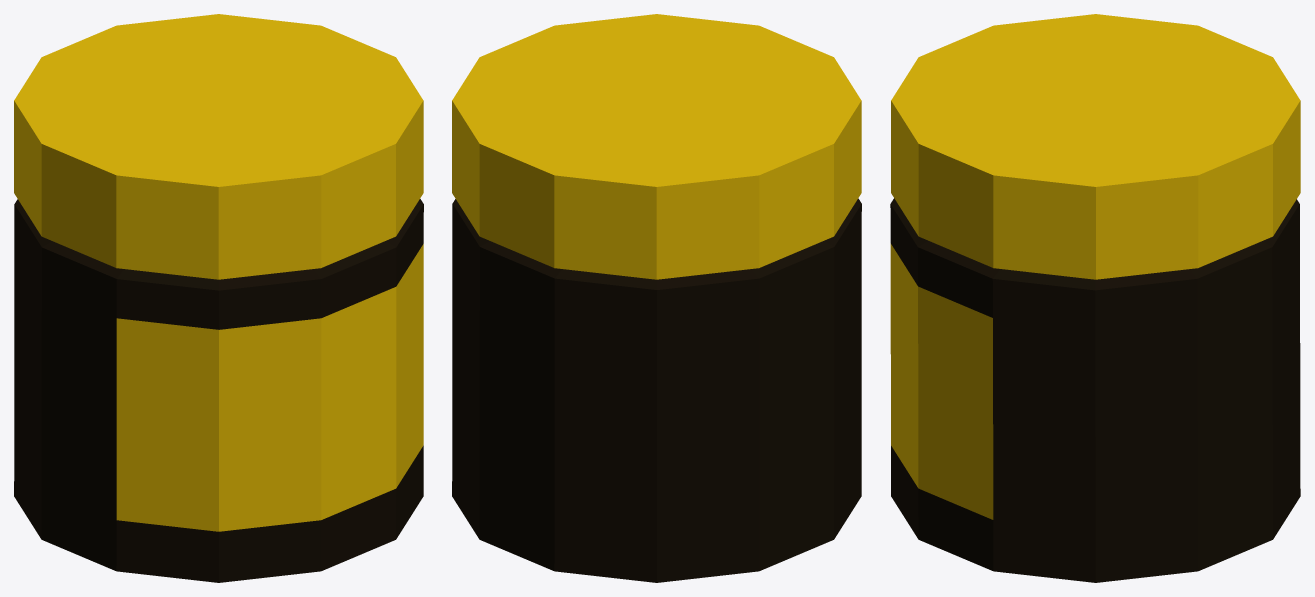
File: vegemite.fbx
3 views of the same model, side by side, from view 1: azimuth 30°, elevation 25°; view 2: azimuth 150°, elevation 25°; view 3: azimuth 270°, elevation 25° (orthographic).
Parts seen in each view (by area): view 1: Cylinder; view 2: Cylinder; view 3: Cylinder.
Boxes of the visible parts, x1,y1,x2,y2 form: Cylinder: [14, 14, 423, 582]; Cylinder: [452, 14, 861, 582]; Cylinder: [890, 14, 1300, 582].
Bounding box in the file's own units: 50 × 53.37 × 50.08.
